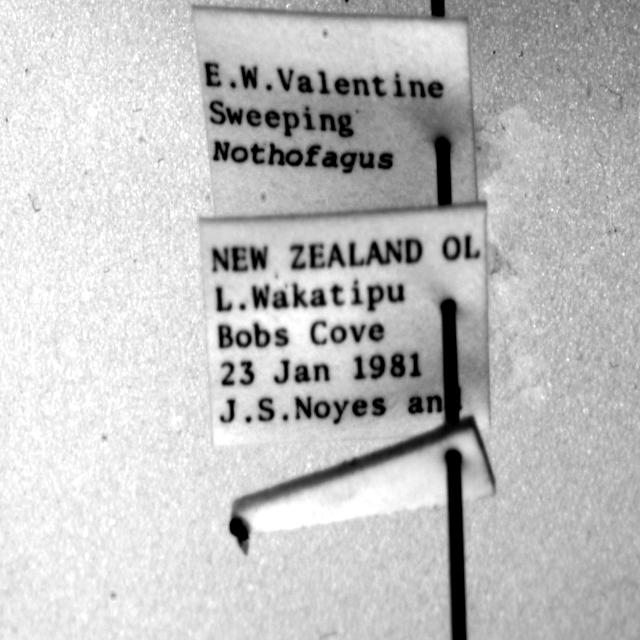typed_label: (200, 202, 490, 444), (194, 8, 478, 218)
